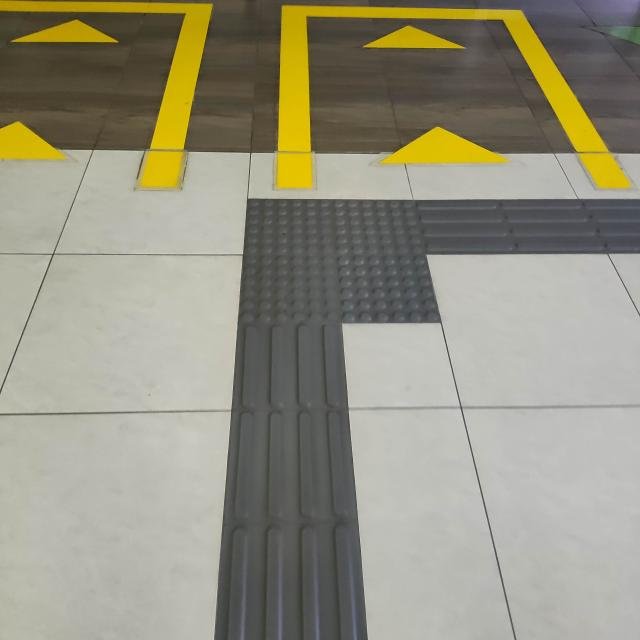kanan: (199, 178, 617, 362)
